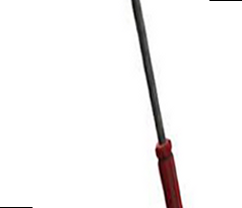Screwdriver: (122, 1, 200, 208)
